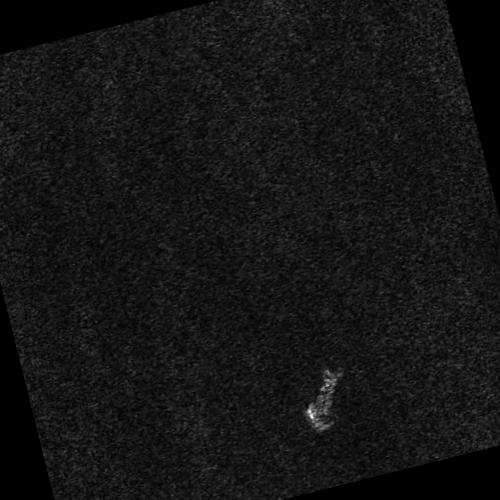ship: (307, 369, 340, 434)
